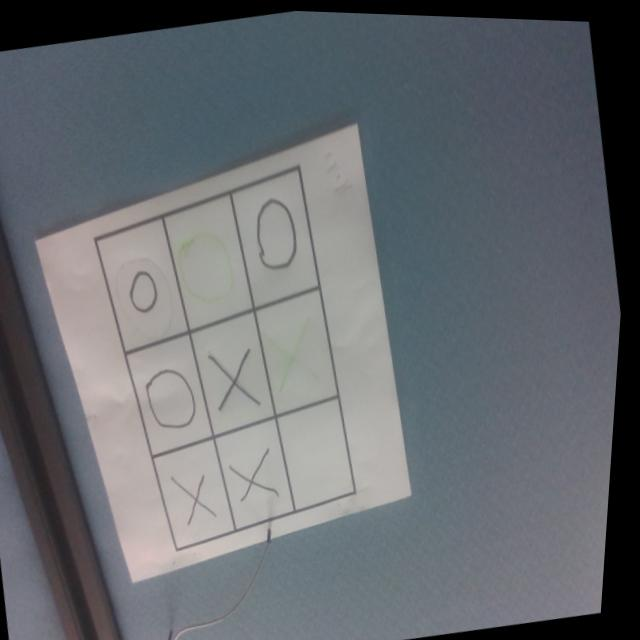null: (277, 391, 367, 511)
o: (159, 190, 251, 323), (251, 192, 307, 272), (146, 363, 208, 435), (128, 266, 167, 317)
table: (68, 144, 388, 564)
x: (269, 308, 332, 394), (210, 341, 267, 413), (230, 443, 288, 505), (174, 466, 224, 525)
